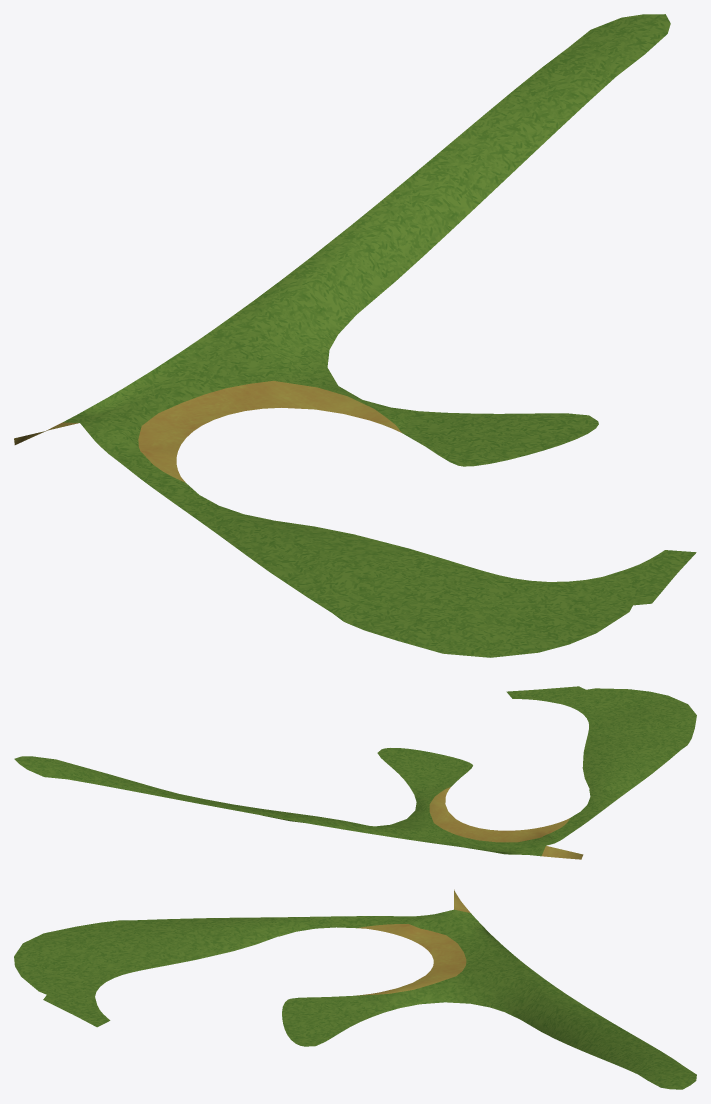
The model's file is sm_grass.fbx.
3 views of the same model, one above another, from view 1: azimuth 30°, elevation 25°; view 2: azimuth 150°, elevation 25°; view 3: azimuth 270°, elevation 25° (orthographic). The views are drawn at different scales.
Parts seen in each view (by area): view 1: sm_grass.002; view 2: sm_grass.002; view 3: sm_grass.002.
Boxes of the visible parts, x1,y1,x2,y2 form: sm_grass.002: (14,14,696,657); sm_grass.002: (14,686,696,859); sm_grass.002: (14,889,696,1089).
Size of the model in its own units: 185 by 24.58 by 202.
